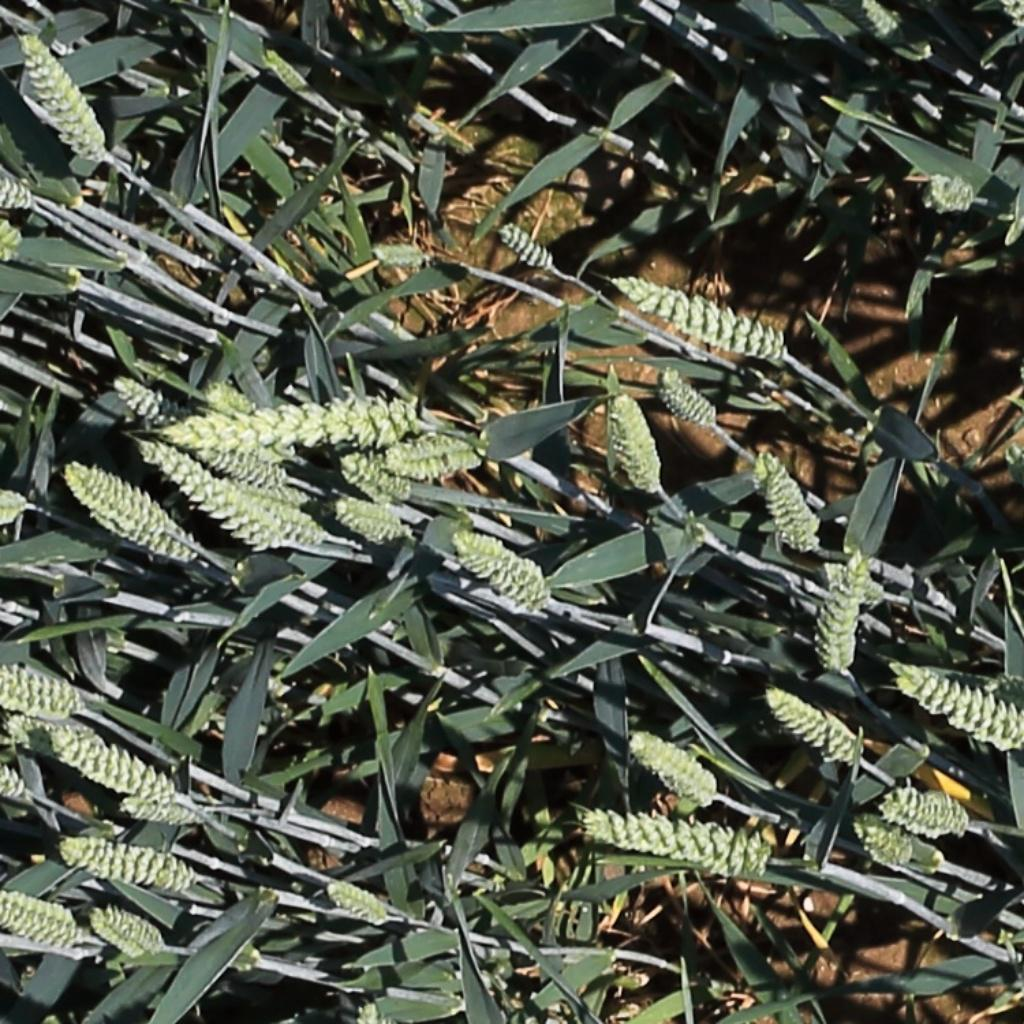0-0: (134, 386, 495, 501), (568, 789, 771, 877), (146, 441, 309, 548), (880, 650, 1024, 756), (615, 274, 783, 357), (0, 650, 107, 769), (16, 31, 107, 163), (454, 523, 557, 625), (49, 730, 180, 805), (66, 464, 185, 537), (54, 830, 189, 891), (768, 689, 860, 767), (0, 899, 107, 966), (760, 450, 821, 550), (88, 505, 196, 561), (856, 819, 951, 879), (630, 737, 718, 800), (611, 391, 663, 492), (882, 777, 968, 834), (185, 439, 283, 487), (830, 551, 869, 671), (820, 558, 858, 670), (659, 364, 722, 428), (113, 374, 188, 427), (341, 454, 413, 502), (88, 909, 162, 955), (498, 219, 558, 270), (335, 499, 410, 537), (0, 894, 77, 931), (259, 45, 312, 96), (920, 173, 974, 222), (326, 883, 389, 924), (117, 800, 207, 826), (890, 350, 954, 386), (0, 158, 40, 213), (374, 244, 441, 275), (0, 483, 35, 541), (582, 394, 613, 457), (0, 737, 30, 801), (861, 0, 905, 40), (0, 207, 23, 280), (207, 386, 256, 417), (356, 995, 394, 1024)
